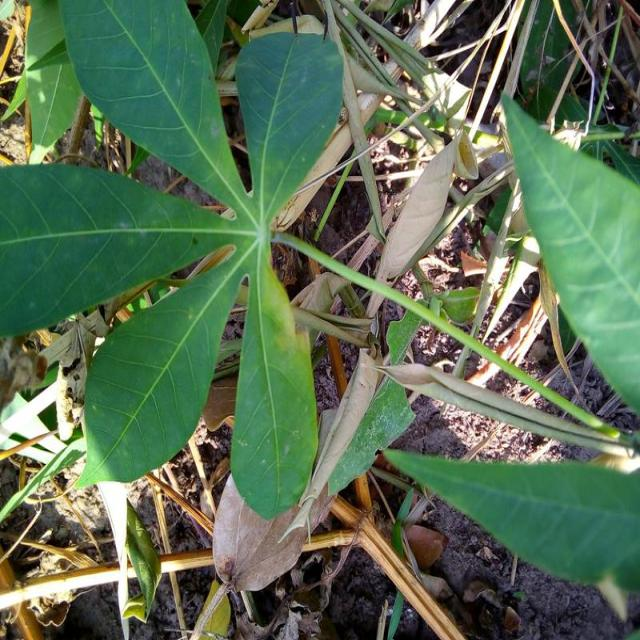cassava leaf: (498, 89, 639, 419), (74, 239, 248, 490), (56, 0, 254, 220), (0, 161, 243, 338), (380, 446, 639, 594), (233, 30, 344, 227)
